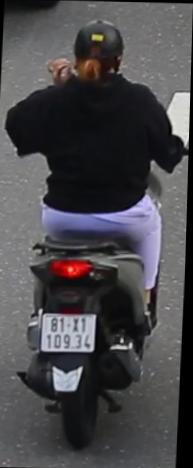LP: (41, 310, 102, 357)
helmet: (69, 17, 129, 86)
